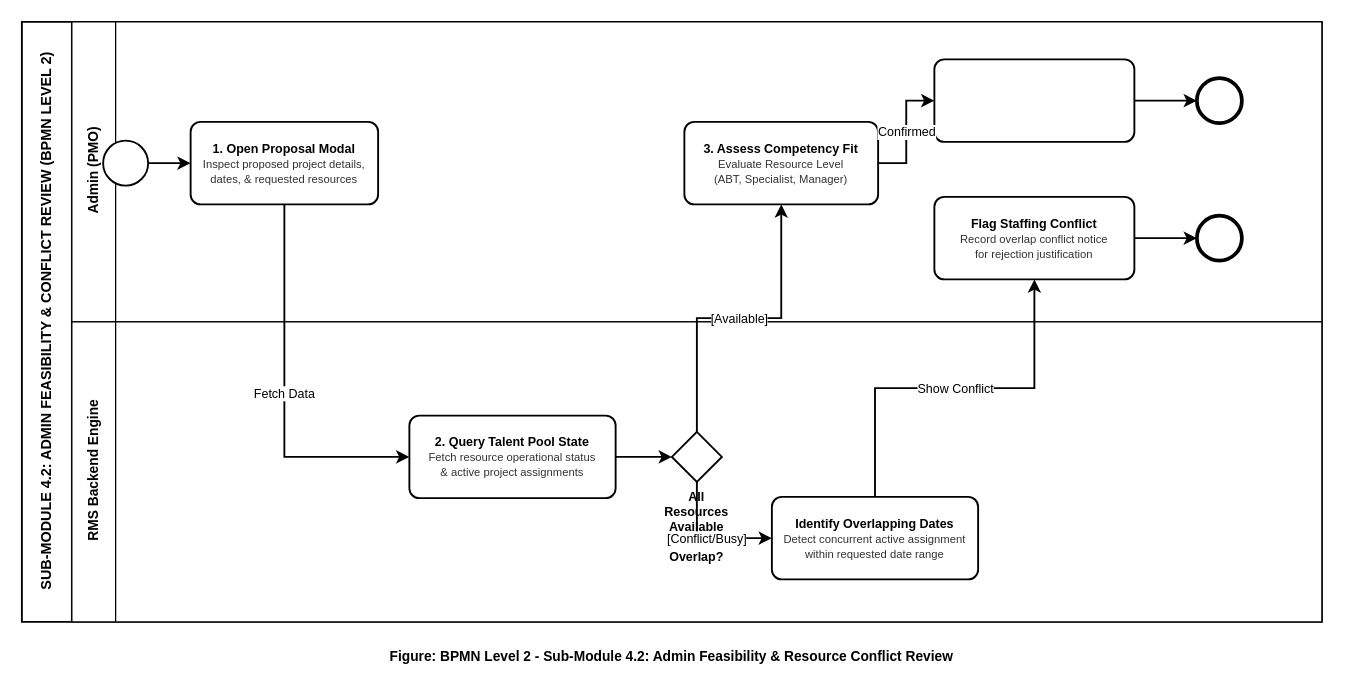
This 1345x694 diagram has some shape labels left out. Here are the shapes that lost their labels. From the top down, the box of each, then its label:
(933, 58, 1135, 142): Verify Proposal Feasible Confirm capacity available, ready for formal approval
(1194, 76, 1243, 124): Proceed to Approval Flow
(102, 139, 148, 186): Pending Proposal in Queue
(1194, 213, 1243, 262): Proceed to Rejection Flow
